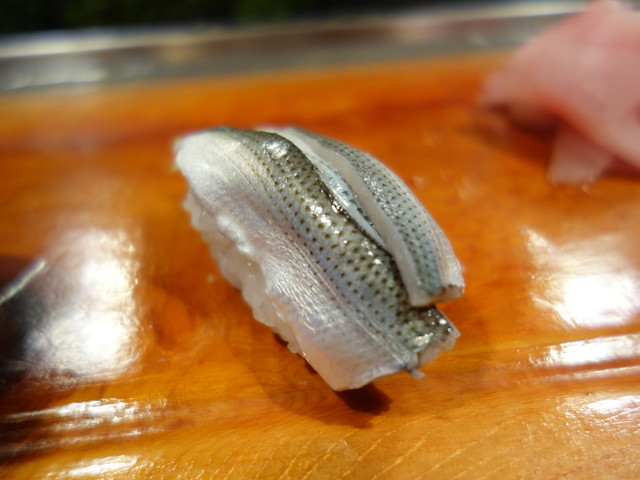spotted-shad: (163, 123, 470, 400)
